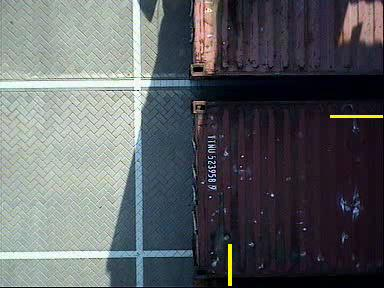groundmarker_2: (53, 55, 150, 139)
